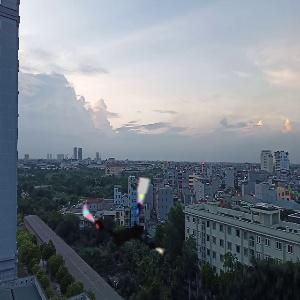drone: (79, 171, 180, 272)
